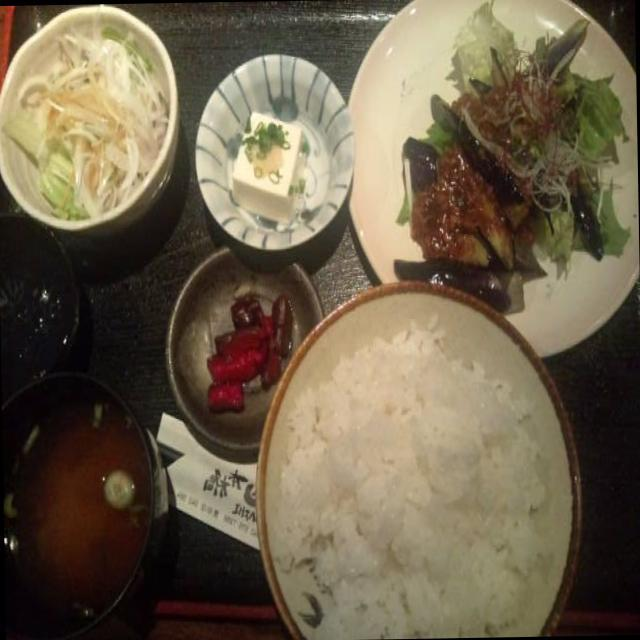Rice: (275, 329, 542, 640)
